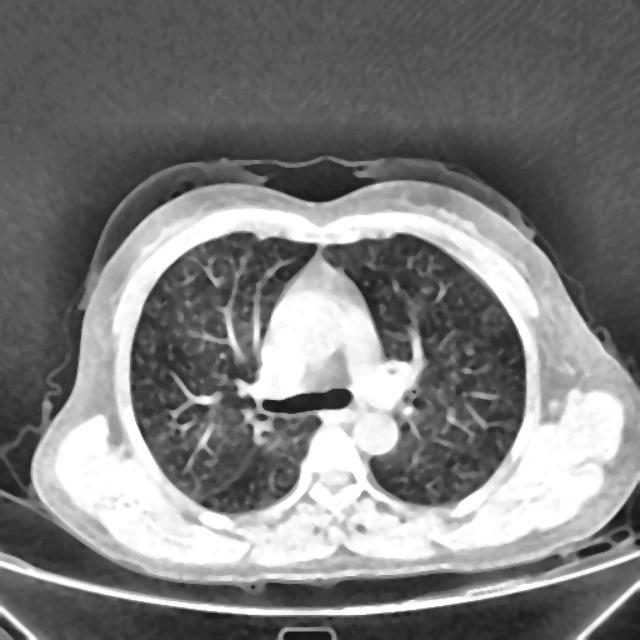covid: (28, 154, 638, 590)
